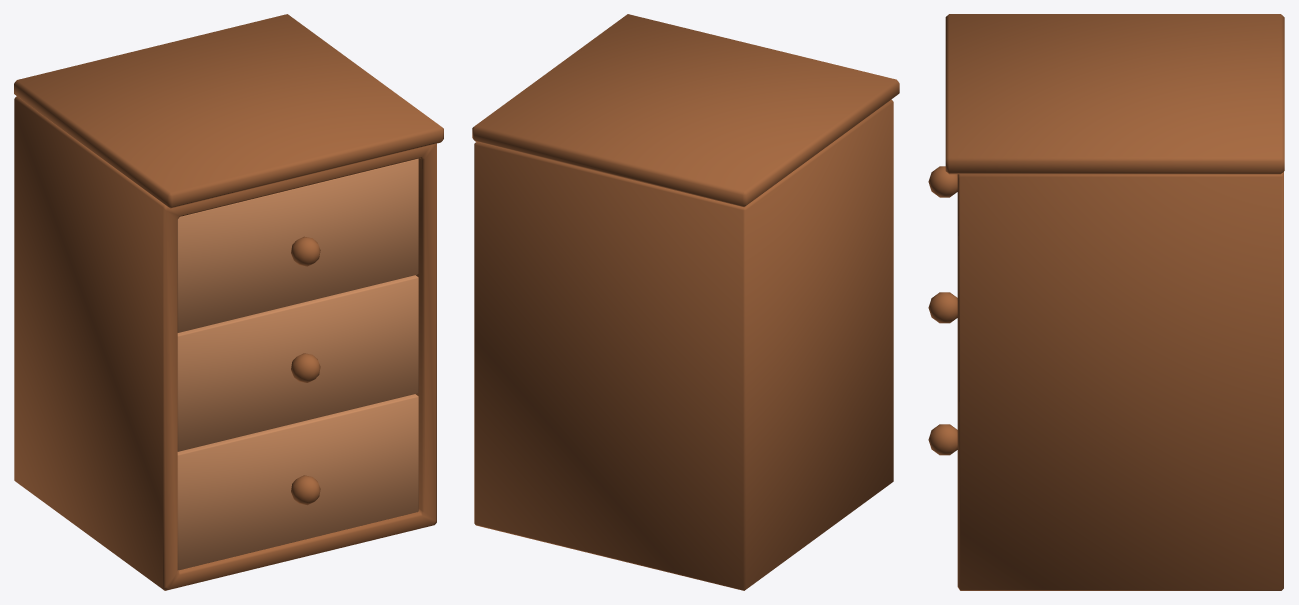
The model's file is Drawer B.glb.
3 views of the same model, side by side, from view 1: azimuth 30°, elevation 25°; view 2: azimuth 150°, elevation 25°; view 3: azimuth 270°, elevation 25° (orthographic). The views are drawn at different scales.
Visible parts, largest first — view 1: Drawer B; view 2: Drawer B; view 3: Drawer B.
Boxes of the visible parts, bbox=[...] form: Drawer B: bbox=[14, 14, 443, 590]; Drawer B: bbox=[472, 14, 899, 590]; Drawer B: bbox=[928, 14, 1284, 590].
Size of the model in its own units: 254 by 353 by 262.
